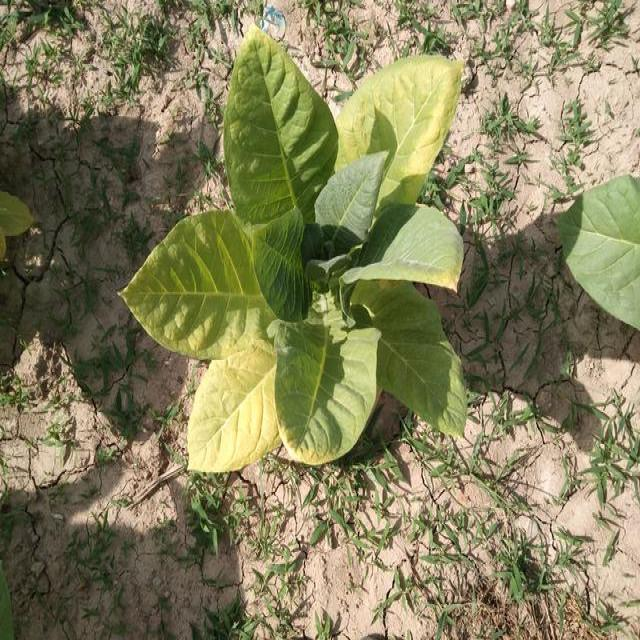crop: (116, 20, 485, 476)
